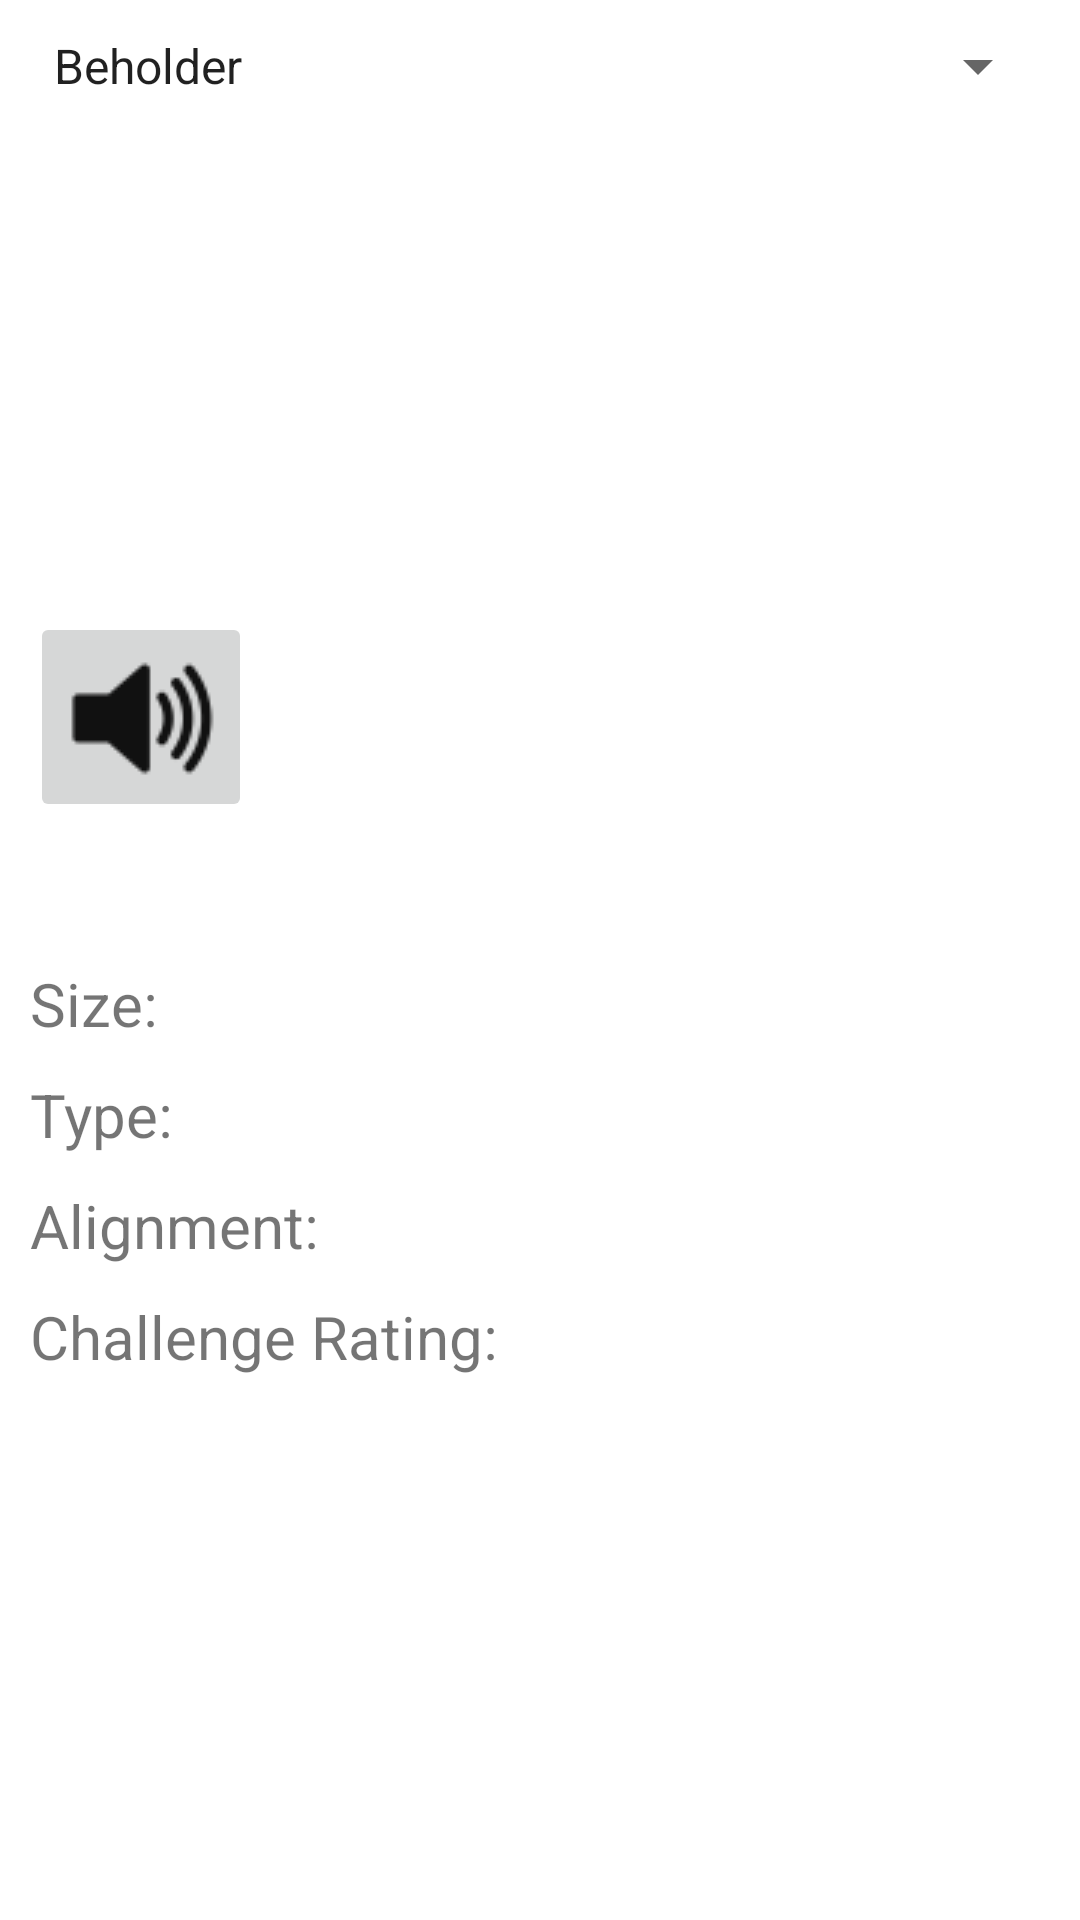

Icons on this 1080×1920 Android screen, each with its box as (left=x1, top=y1, right=x2, bottom=y2):
speaker: (left=42, top=630, right=240, bottom=804)
